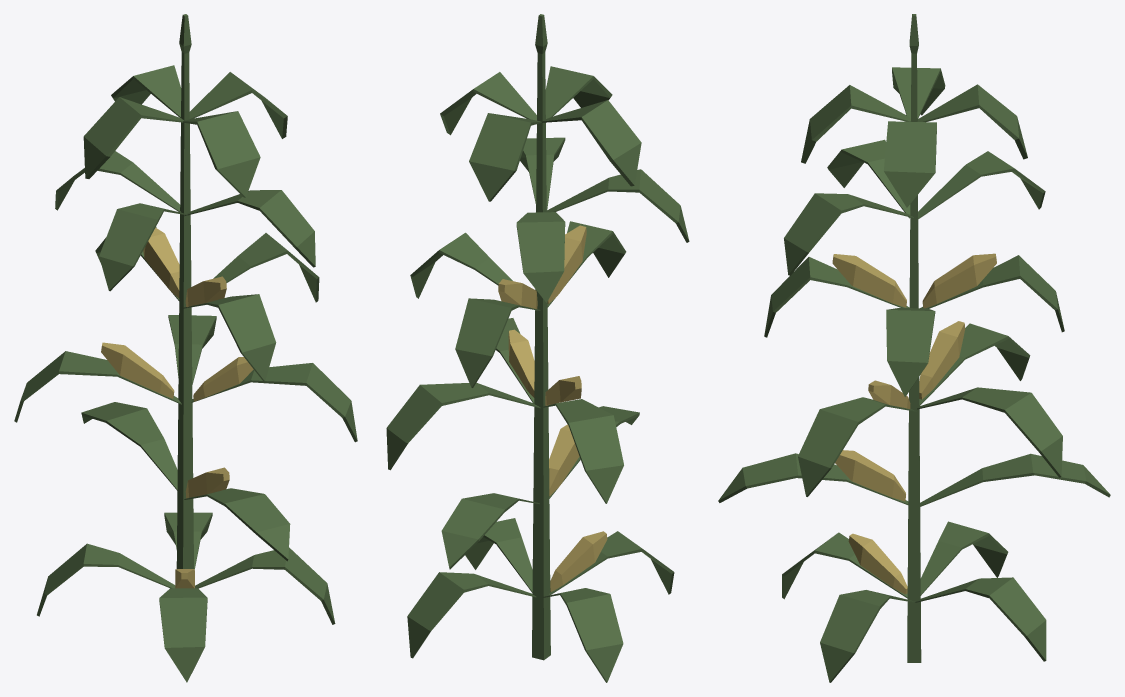
The model's file is corn_2.glb.
3 renders of one model, left to right at view 1: azimuth 30°, elevation 25°; view 2: azimuth 150°, elevation 25°; view 3: azimuth 270°, elevation 25°, orthographic.
Visible parts, largest first — view 1: Corn_2; view 2: Corn_2; view 3: Corn_2.
Part boxes in pixels (x1,y1,x2,y2): Corn_2: (14,14,357,682); Corn_2: (386,14,689,682); Corn_2: (718,14,1110,682).
Bounding box in the file's own units: 0.8237 × 1.98 × 1.09.
